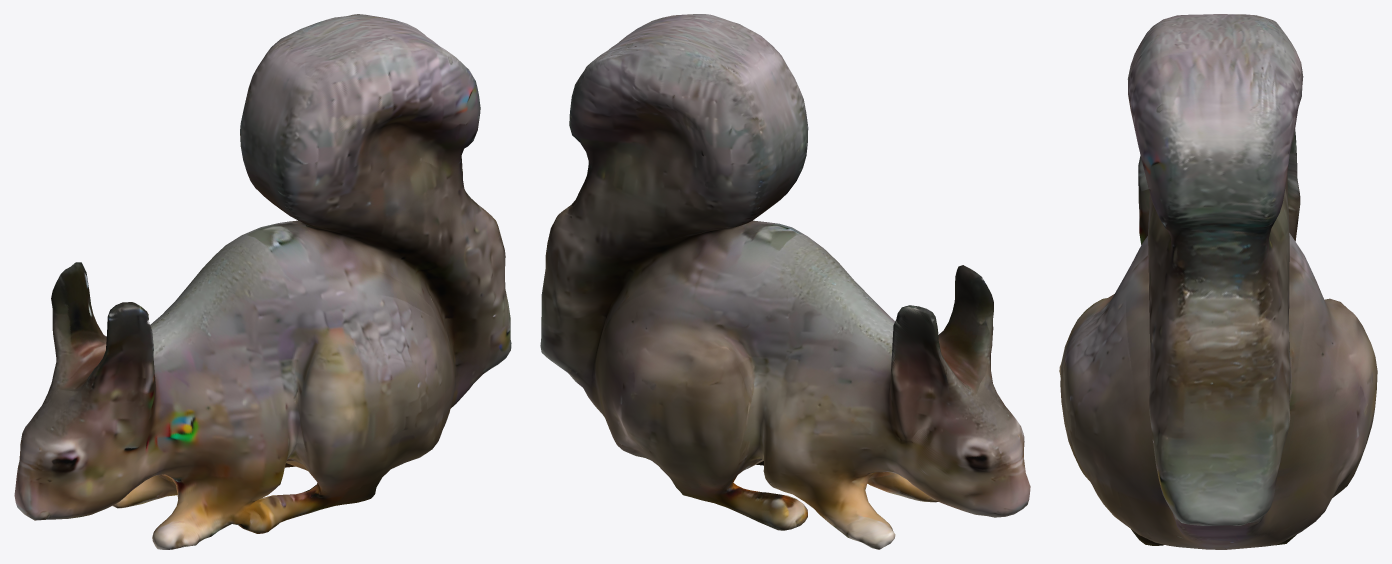
File: feeding_squirrel_textured_frame_000000.glb
3 views of the same model, side by side, from view 1: azimuth 30°, elevation 25°; view 2: azimuth 150°, elevation 25°; view 3: azimuth 270°, elevation 25° (orthographic). The views are drawn at different scales.
Visible parts, largest first — view 1: geometry_0; view 2: geometry_0; view 3: geometry_0.
Boxes of the visible parts, x1=… form: geometry_0: x1=14, y1=14, x2=511, y2=549; geometry_0: x1=540, y1=14, x2=1030, y2=549; geometry_0: x1=1059, y1=14, x2=1377, y2=549.
Size of the model in its own units: 1.87 by 1.65 by 0.9092.
1 material, 1 textured.
